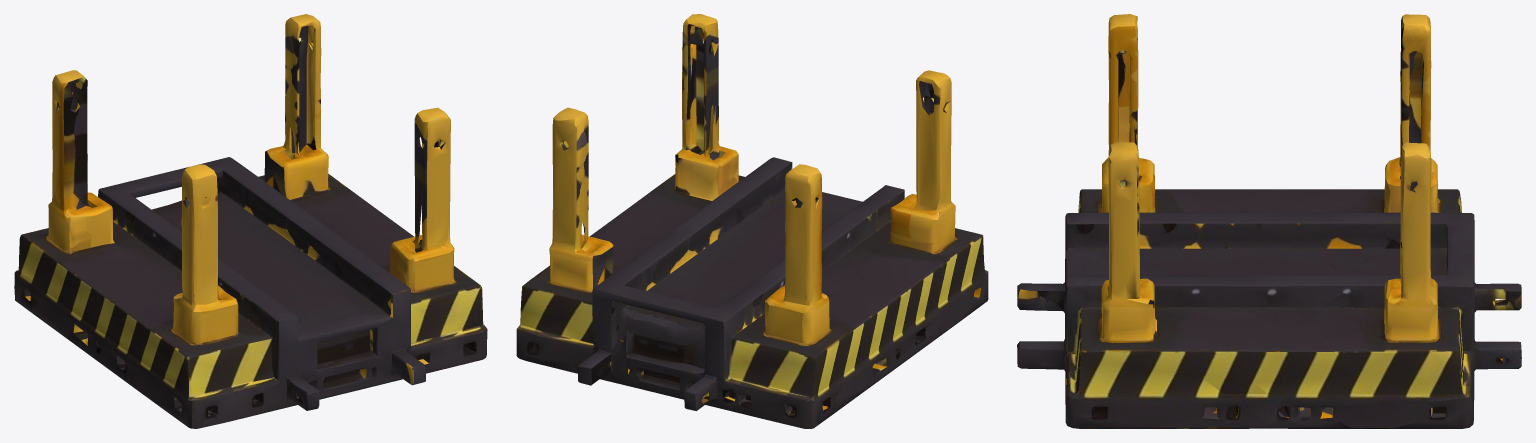
File: launch_cradle.glb
3 renders of one model, left to right at view 1: azimuth 30°, elevation 25°; view 2: azimuth 150°, elevation 25°; view 3: azimuth 270°, elevation 25°, orthographic. The views are drawn at different scales.
Parts seen in each view (by area): view 1: launch_cradle; view 2: launch_cradle; view 3: launch_cradle.
Part boxes in pixels (<box>): launch_cradle: <box>14,14,487,428</box>; launch_cradle: <box>516,14,988,428</box>; launch_cradle: <box>1017,14,1521,428</box>.
Size of the model in its own units: 0.7707 by 0.5798 by 1.
1 material, 1 textured.
